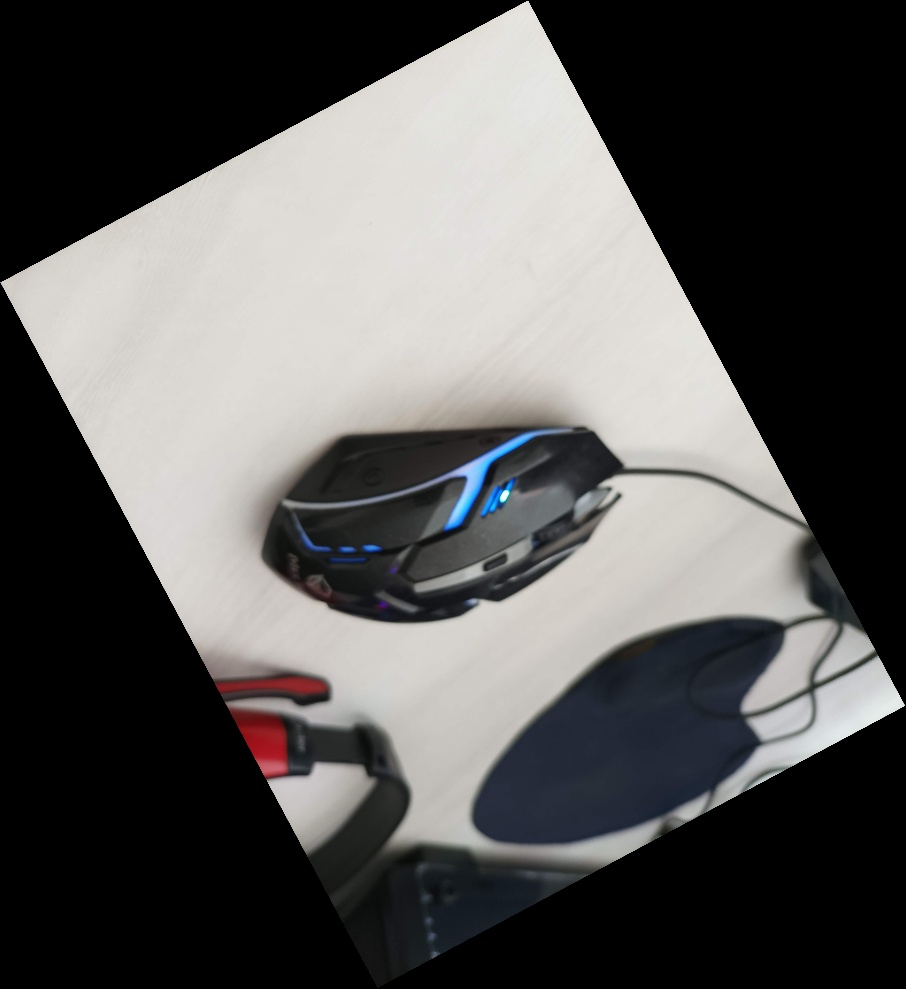mouse: (253, 403, 636, 640)
